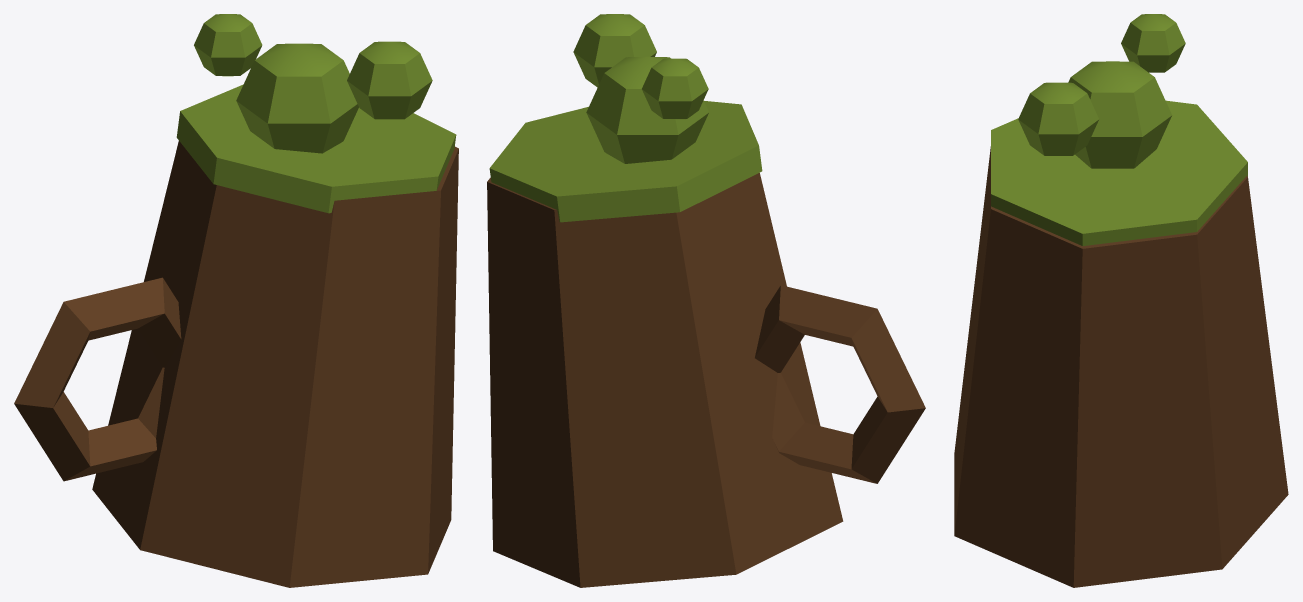
Rendered from PR_Drink_Grog.fbx.
3 views of the same model, side by side, from view 1: azimuth 30°, elevation 25°; view 2: azimuth 150°, elevation 25°; view 3: azimuth 270°, elevation 25° (orthographic). The views are drawn at different scales.
Parts seen in each view (by area): view 1: PR_Drink_Grog; view 2: PR_Drink_Grog; view 3: PR_Drink_Grog.
Part boxes in pixels (<box>): PR_Drink_Grog: <box>14,14,458,587</box>; PR_Drink_Grog: <box>487,14,925,587</box>; PR_Drink_Grog: <box>954,14,1288,587</box>.
Bounding box in the file's own units: 0.173 × 0.2001 × 0.1236.
1 material, 1 textured.
